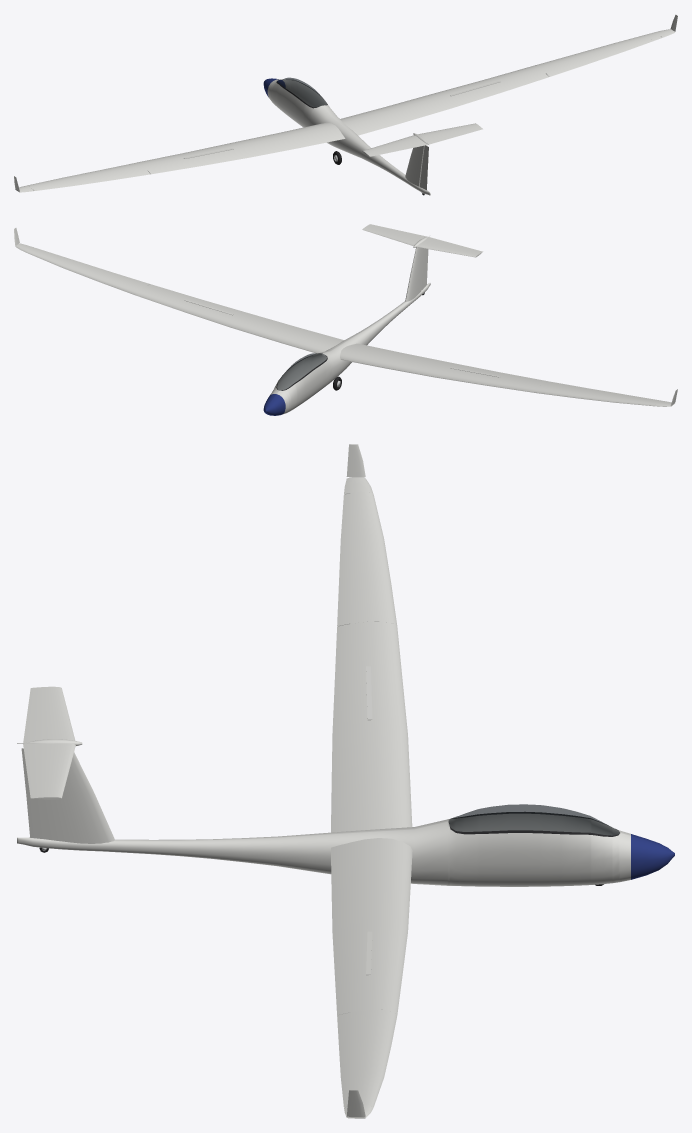
Rendered from duo_discus_t_lod1.glb.
3 renders of one model, top to bottom at view 1: azimuth 30°, elevation 25°; view 2: azimuth 150°, elevation 25°; view 3: azimuth 270°, elevation 25°, orthographic. The views are drawn at different scales.
Visible parts, largest first — view 1: wing_inner_R_LOD1, wing_inner_L_LOD1, fuselage_LOD1, wing_outer_R_LOD1, wing_outer_L_LOD1, elevator_LOD1, fin_LOD1, aileron_R_LOD1, aileron_L_LOD1, stab_L_LOD1, stab_R_LOD1; view 2: fuselage_LOD1, wing_inner_R_LOD1, wing_inner_L_LOD1, wing_outer_R_LOD1, wing_outer_L_LOD1, fin_LOD1, stab_L_LOD1, stab_R_LOD1, elevator_LOD1; view 3: fuselage_LOD1, wing_inner_L_LOD1, wing_inner_R_LOD1, wing_outer_L_LOD1, wing_outer_R_LOD1, fin_LOD1, elevator_LOD1, stab_R_LOD1, stab_L_LOD1, aileron_L_LOD1, rudder_LOD1, aileron_R_LOD1.
Boxes of the visible parts, x1,y1,x2,y2 form: wing_inner_R_LOD1: (340, 65, 548, 135); wing_inner_L_LOD1: (137, 122, 345, 174); fuselage_LOD1: (263, 77, 430, 195); wing_outer_R_LOD1: (535, 32, 660, 73); wing_outer_L_LOD1: (28, 162, 147, 189); elevator_LOD1: (367, 127, 482, 156); fin_LOD1: (405, 145, 424, 186); aileron_R_LOD1: (546, 36, 661, 76); aileron_L_LOD1: (33, 170, 150, 190); stab_L_LOD1: (362, 135, 421, 154); stab_R_LOD1: (418, 123, 480, 139); fuselage_LOD1: (263, 283, 430, 415); wing_inner_R_LOD1: (136, 284, 344, 356); wing_inner_L_LOD1: (340, 343, 548, 392); wing_outer_R_LOD1: (27, 248, 147, 295); wing_outer_L_LOD1: (534, 382, 660, 406); fin_LOD1: (405, 247, 424, 301); stab_L_LOD1: (417, 240, 480, 257); stab_R_LOD1: (362, 225, 421, 245); elevator_LOD1: (368, 224, 482, 253); fuselage_LOD1: (17, 804, 674, 886); wing_inner_L_LOD1: (331, 621, 412, 832); wing_inner_R_LOD1: (331, 838, 412, 1015); wing_outer_L_LOD1: (350, 492, 397, 625); wing_outer_R_LOD1: (350, 1009, 397, 1106); fin_LOD1: (48, 752, 114, 843); elevator_LOD1: (23, 687, 41, 799); stab_R_LOD1: (41, 743, 75, 799); stab_L_LOD1: (41, 686, 75, 740); aileron_L_LOD1: (337, 493, 350, 626); rudder_LOD1: (21, 748, 55, 840); aileron_R_LOD1: (337, 1012, 350, 1107).
Size of the model in its own units: 20.12 by 2.57 by 8.66.
